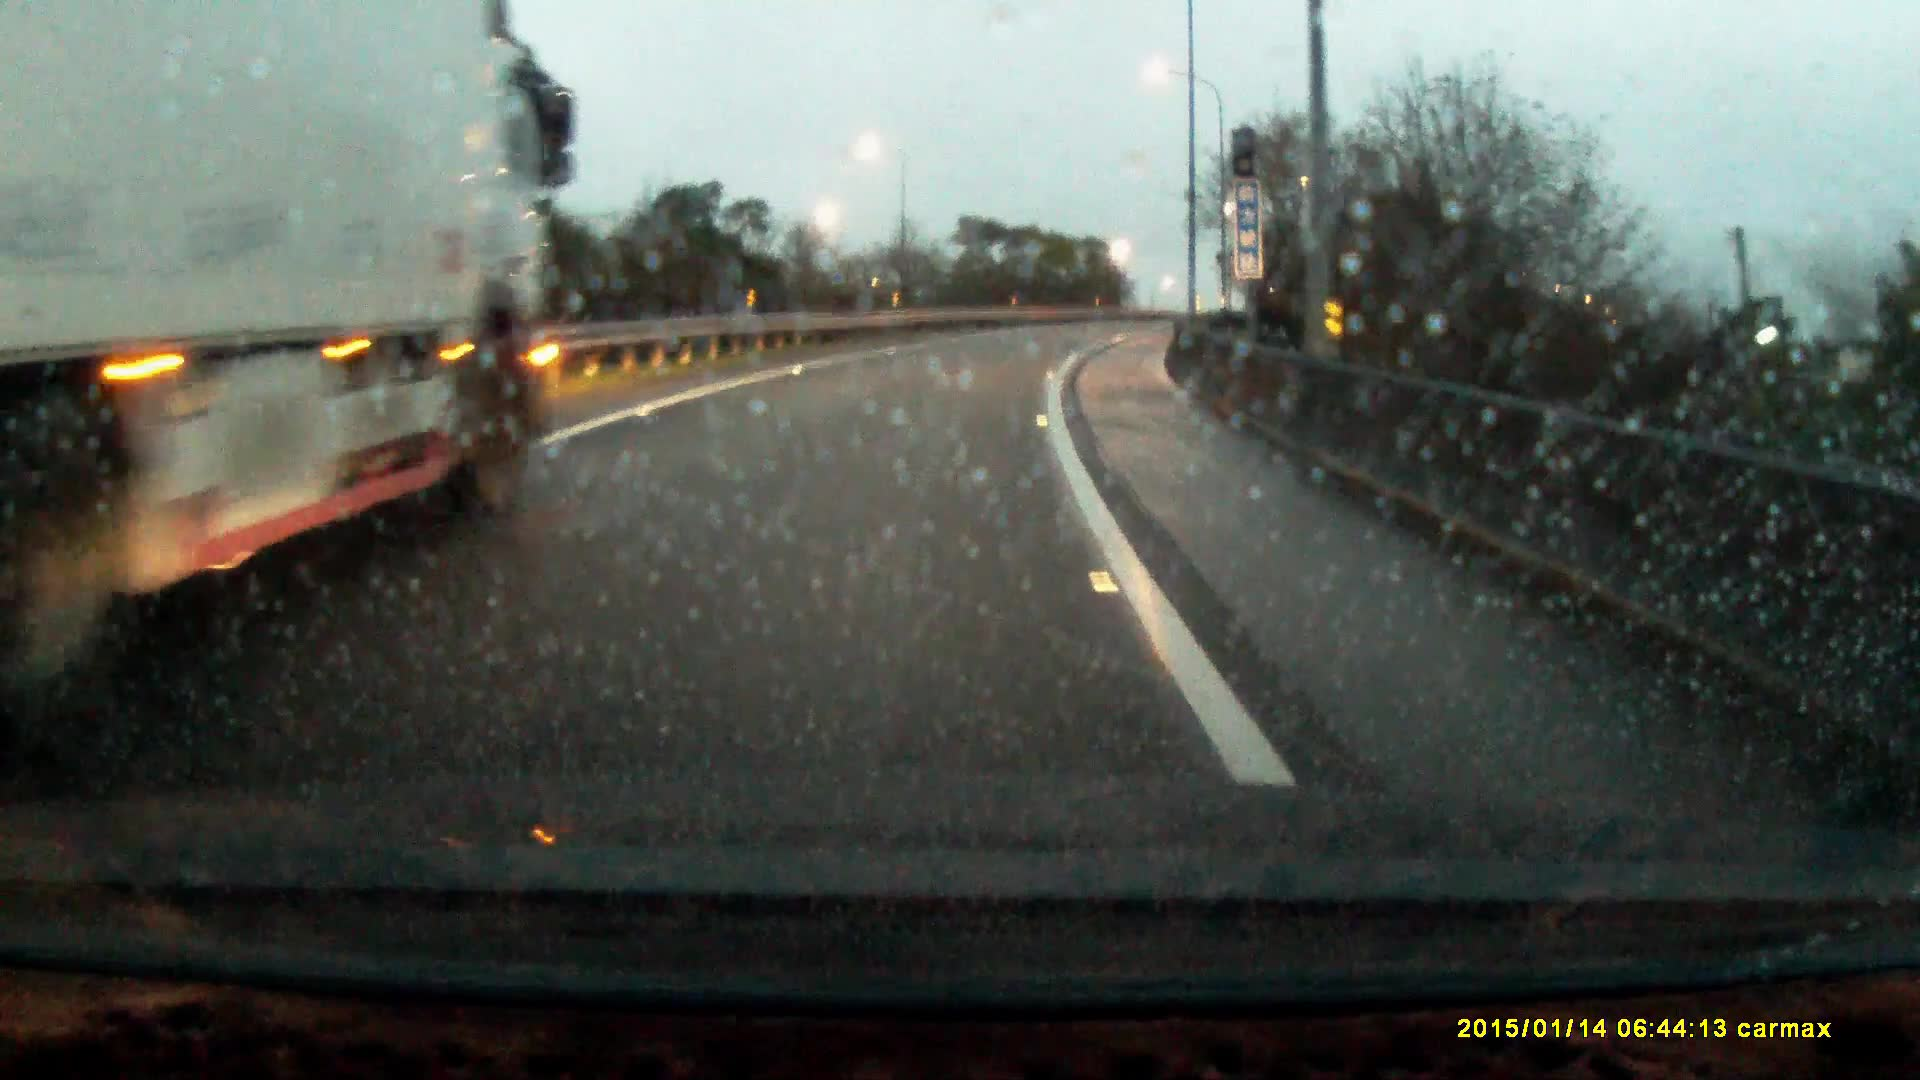vehicle: (1, 1, 580, 644)
